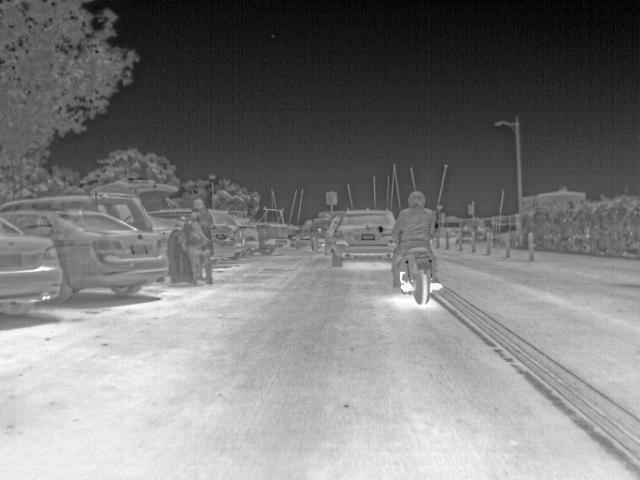car: (5, 206, 167, 298), (4, 216, 64, 311), (1, 197, 152, 232), (330, 207, 397, 265), (206, 209, 237, 264), (296, 215, 331, 251), (150, 205, 195, 226), (259, 223, 290, 253), (235, 224, 263, 256)
person: (392, 191, 442, 287), (182, 199, 219, 283)
